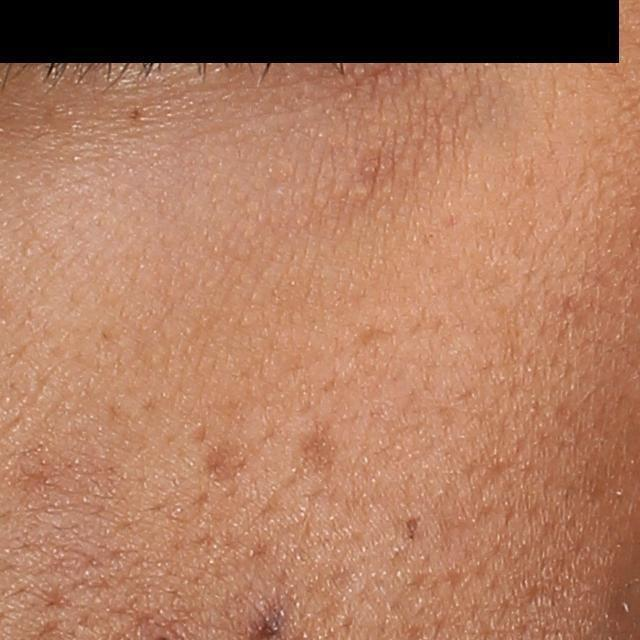nevus: (129, 105, 144, 121)
